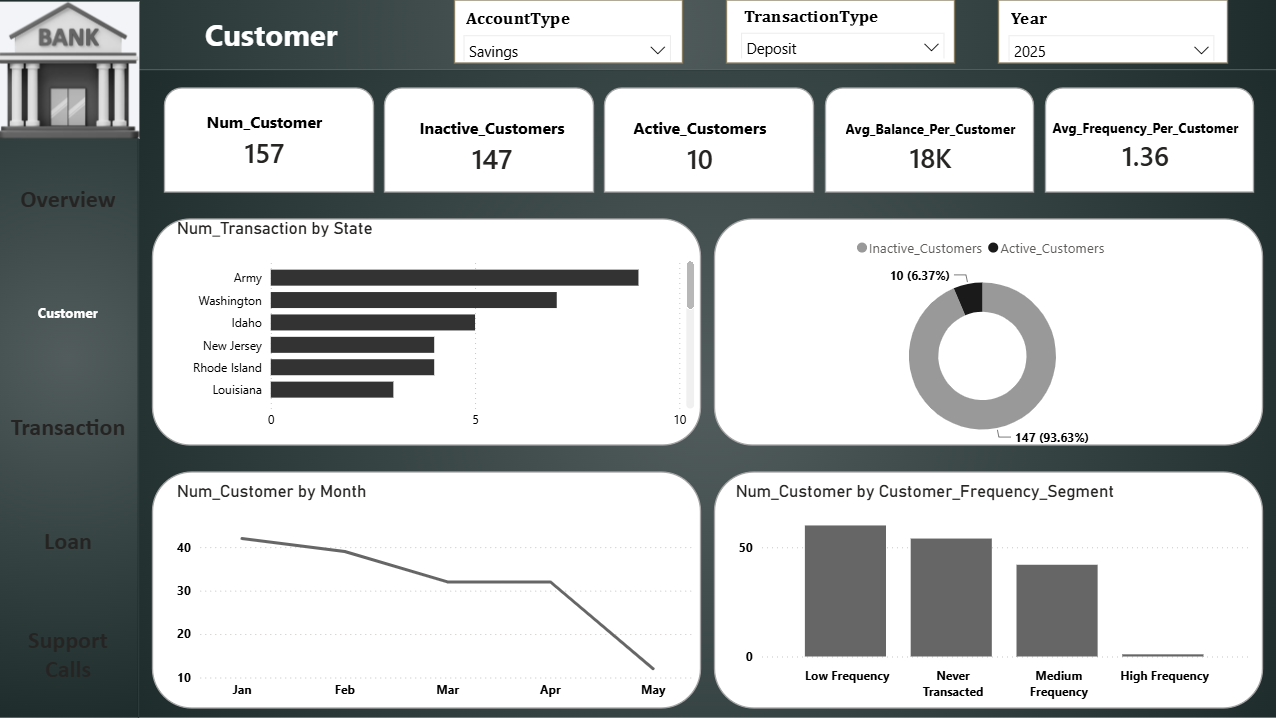

The page's visual inventory and layout, read from the dashboard file:
{"tool":"powerbi","page":{"name":"Customer","canvas":[1280,720],"ordinal":1},"visuals":[{"type":"cardVisual","fields":{"Data":["Calculation_Overview.Num_Customer"]},"box":[175,97.5,185,85],"z":0},{"type":"cardVisual","fields":{"Data":["Castomer Calculation.Active_Account"]},"box":[603.8,97.5,198.8,96.2],"z":1000},{"type":"cardVisual","fields":{"Data":["Castomer Calculation.Avg_Frequency_Per_Customer"]},"box":[1017.5,97.5,262.5,96.2],"z":2000},{"type":"cardVisual","fields":{"Data":["Castomer Calculation.Inactive_Customers"]},"box":[390,97.5,210,96.2],"z":3000},{"type":"cardVisual","fields":{"Data":["Castomer Calculation.Avg_Balance_Per_Customer"]},"box":[802.5,98.8,262.5,96.2],"z":4000},{"type":"barChart","fields":{"Category":["customers.State"],"Y":["Calculation_Overview.Num_Transaction"]},"box":[175,217.5,527.5,220],"z":5000},{"type":"lineChart","title":"Num_Customer by Month","fields":{"Y":["Calculation_Overview.Num_Customer"],"Category":["Calender.Month_Name"]},"box":[175,481.2,527.5,226.2],"z":6000},{"type":"donutChart","fields":{"Y":["Castomer Calculation.Inactive_Customers","Castomer Calculation.Active_Customers"]},"box":[743.8,227.5,483.8,227.5],"z":7000},{"type":"columnChart","fields":{"Category":["customers.Customer_Frequency_Segment"],"Y":["Calculation_Overview.Num_Customer"]},"box":[733.8,481.2,523.8,226.2],"z":8000},{"type":"slicer","fields":{"Values":["Calender.Year"]},"box":[1001.2,2.5,226.2,58.8],"z":9000},{"type":"slicer","fields":{"Values":["Transactions.TransactionType"]},"box":[733.8,0,223.8,58.8],"z":10000},{"type":"slicer","fields":{"Values":["Accounts.AccountType"]},"box":[456.2,2.5,227.5,58.8],"z":11000},{"type":"pageNavigator","box":[0,146.2,142.5,561.2],"z":12000},{"type":"image","box":[0,0,142.5,140],"z":12001},{"type":"shape","box":[162.5,0,223.8,67.5],"z":12002}]}

Visuals, with their boxes on the page's 1280x720 design canvas (x1, y1, x2, y2). These are canvas units, not pixel positions in the 1276x718 screenshot, which may show the page scaled, cropped or inside an application window:
cardVisual - Calculation_Overview.Num_Customer: l=175, t=98, r=360, b=182
cardVisual - Castomer Calculation.Active_Account: l=604, t=98, r=803, b=194
cardVisual - Castomer Calculation.Avg_Frequency_Per_Customer: l=1018, t=98, r=1280, b=194
cardVisual - Castomer Calculation.Inactive_Customers: l=390, t=98, r=600, b=194
cardVisual - Castomer Calculation.Avg_Balance_Per_Customer: l=802, t=99, r=1065, b=195
barChart - customers.State x Calculation_Overview.Num_Transaction: l=175, t=218, r=702, b=438
"Num_Customer by Month" lineChart: l=175, t=481, r=702, b=707
donutChart - Castomer Calculation.Inactive_Customers x Castomer Calculation.Active_Customers: l=744, t=228, r=1228, b=455
columnChart - customers.Customer_Frequency_Segment x Calculation_Overview.Num_Customer: l=734, t=481, r=1258, b=707
slicer - Calender.Year: l=1001, t=2, r=1227, b=61
slicer - Transactions.TransactionType: l=734, t=0, r=958, b=59
slicer - Accounts.AccountType: l=456, t=2, r=684, b=61
pageNavigator: l=0, t=146, r=142, b=707
image: l=0, t=0, r=142, b=140
shape: l=162, t=0, r=386, b=68
